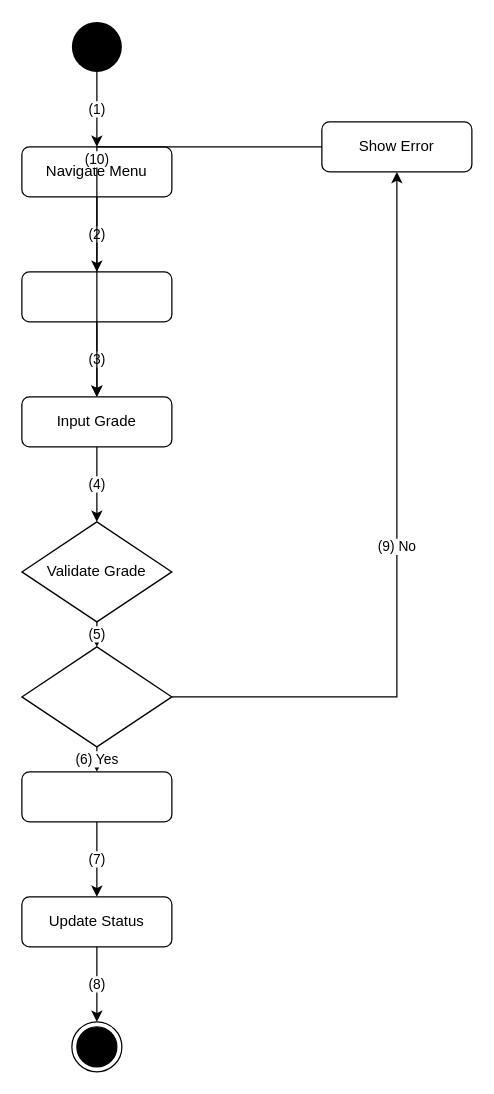
Image size: 494x1094. Some labels were removed from this diagram. The box of each missing label's shape, as (x1, y1, x2, y2) in pixels:
Aggregate Scores: (21, 271, 172, 322)
Is Valid: (21, 646, 172, 747)
Save Grades: (21, 771, 172, 822)
